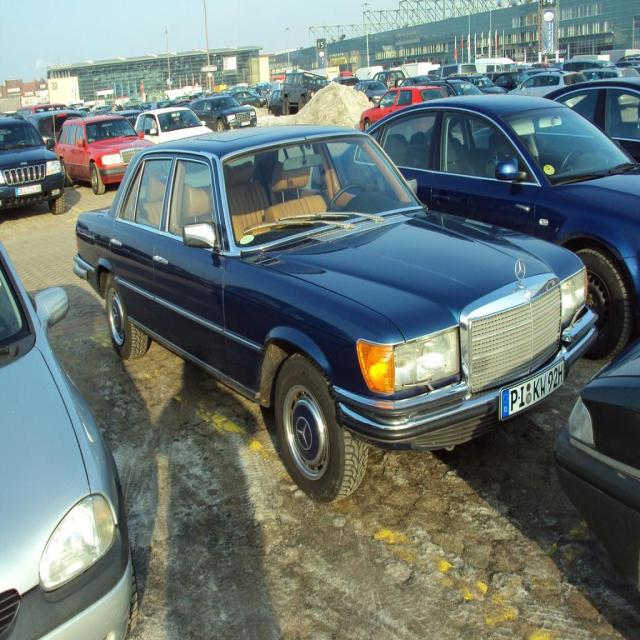car: (0, 81, 639, 638)
